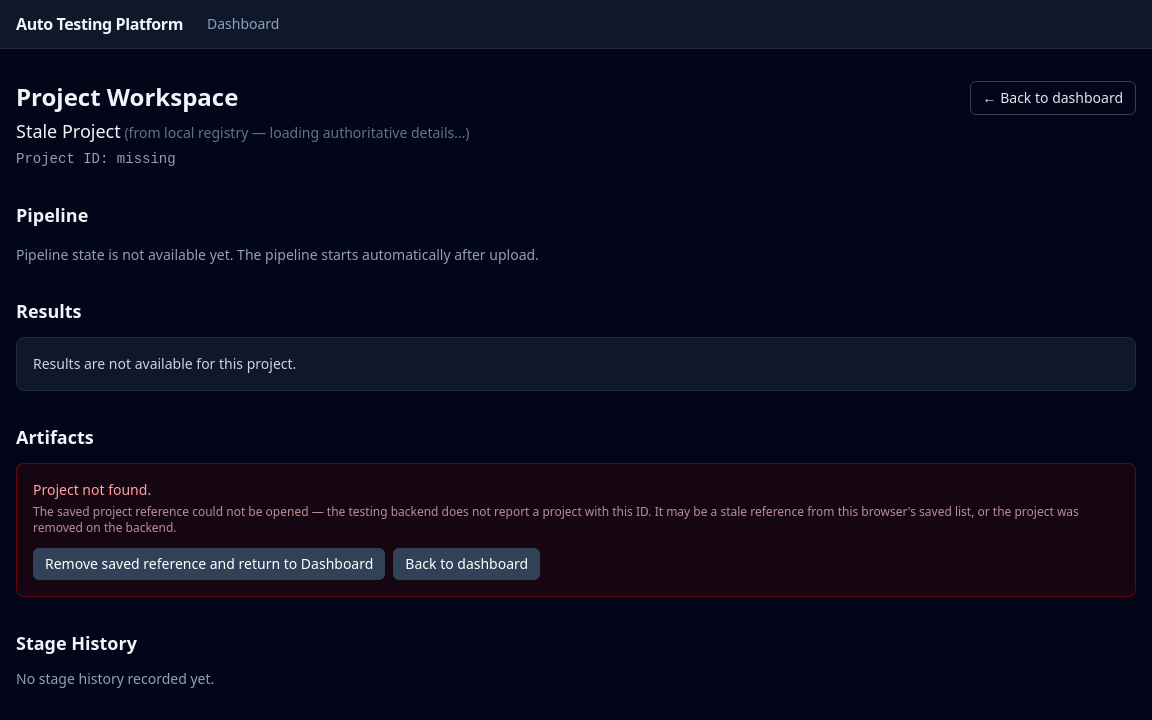
Test: Project workspace — errors › allows removing a stale saved reference from the not-found panel
Check: the text "Project not found." is shown, box 33,480 -> 151,499
Click the button "Remove saved reference and return to Dashboard": [209, 564] box 33,548 -> 385,580
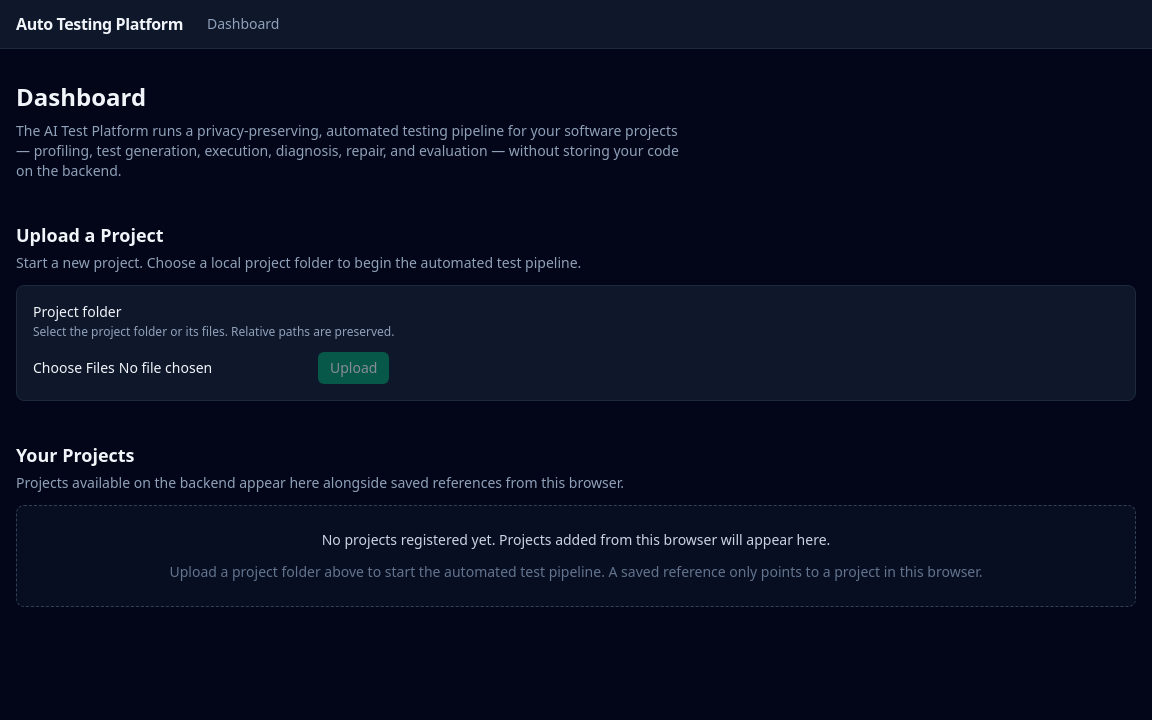
Check: the heading "Dashboard" is shown, box 16,80 -> 146,113
Check: the text "Stale Project" is gone
